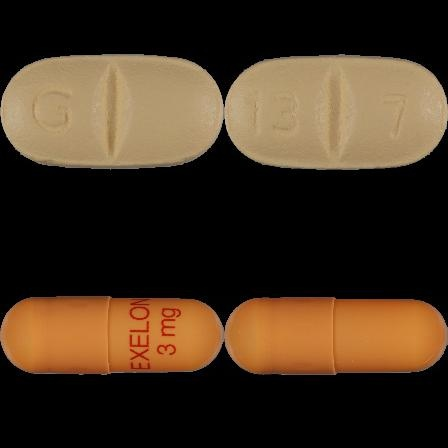54868-5830: (0, 0, 224, 224)
